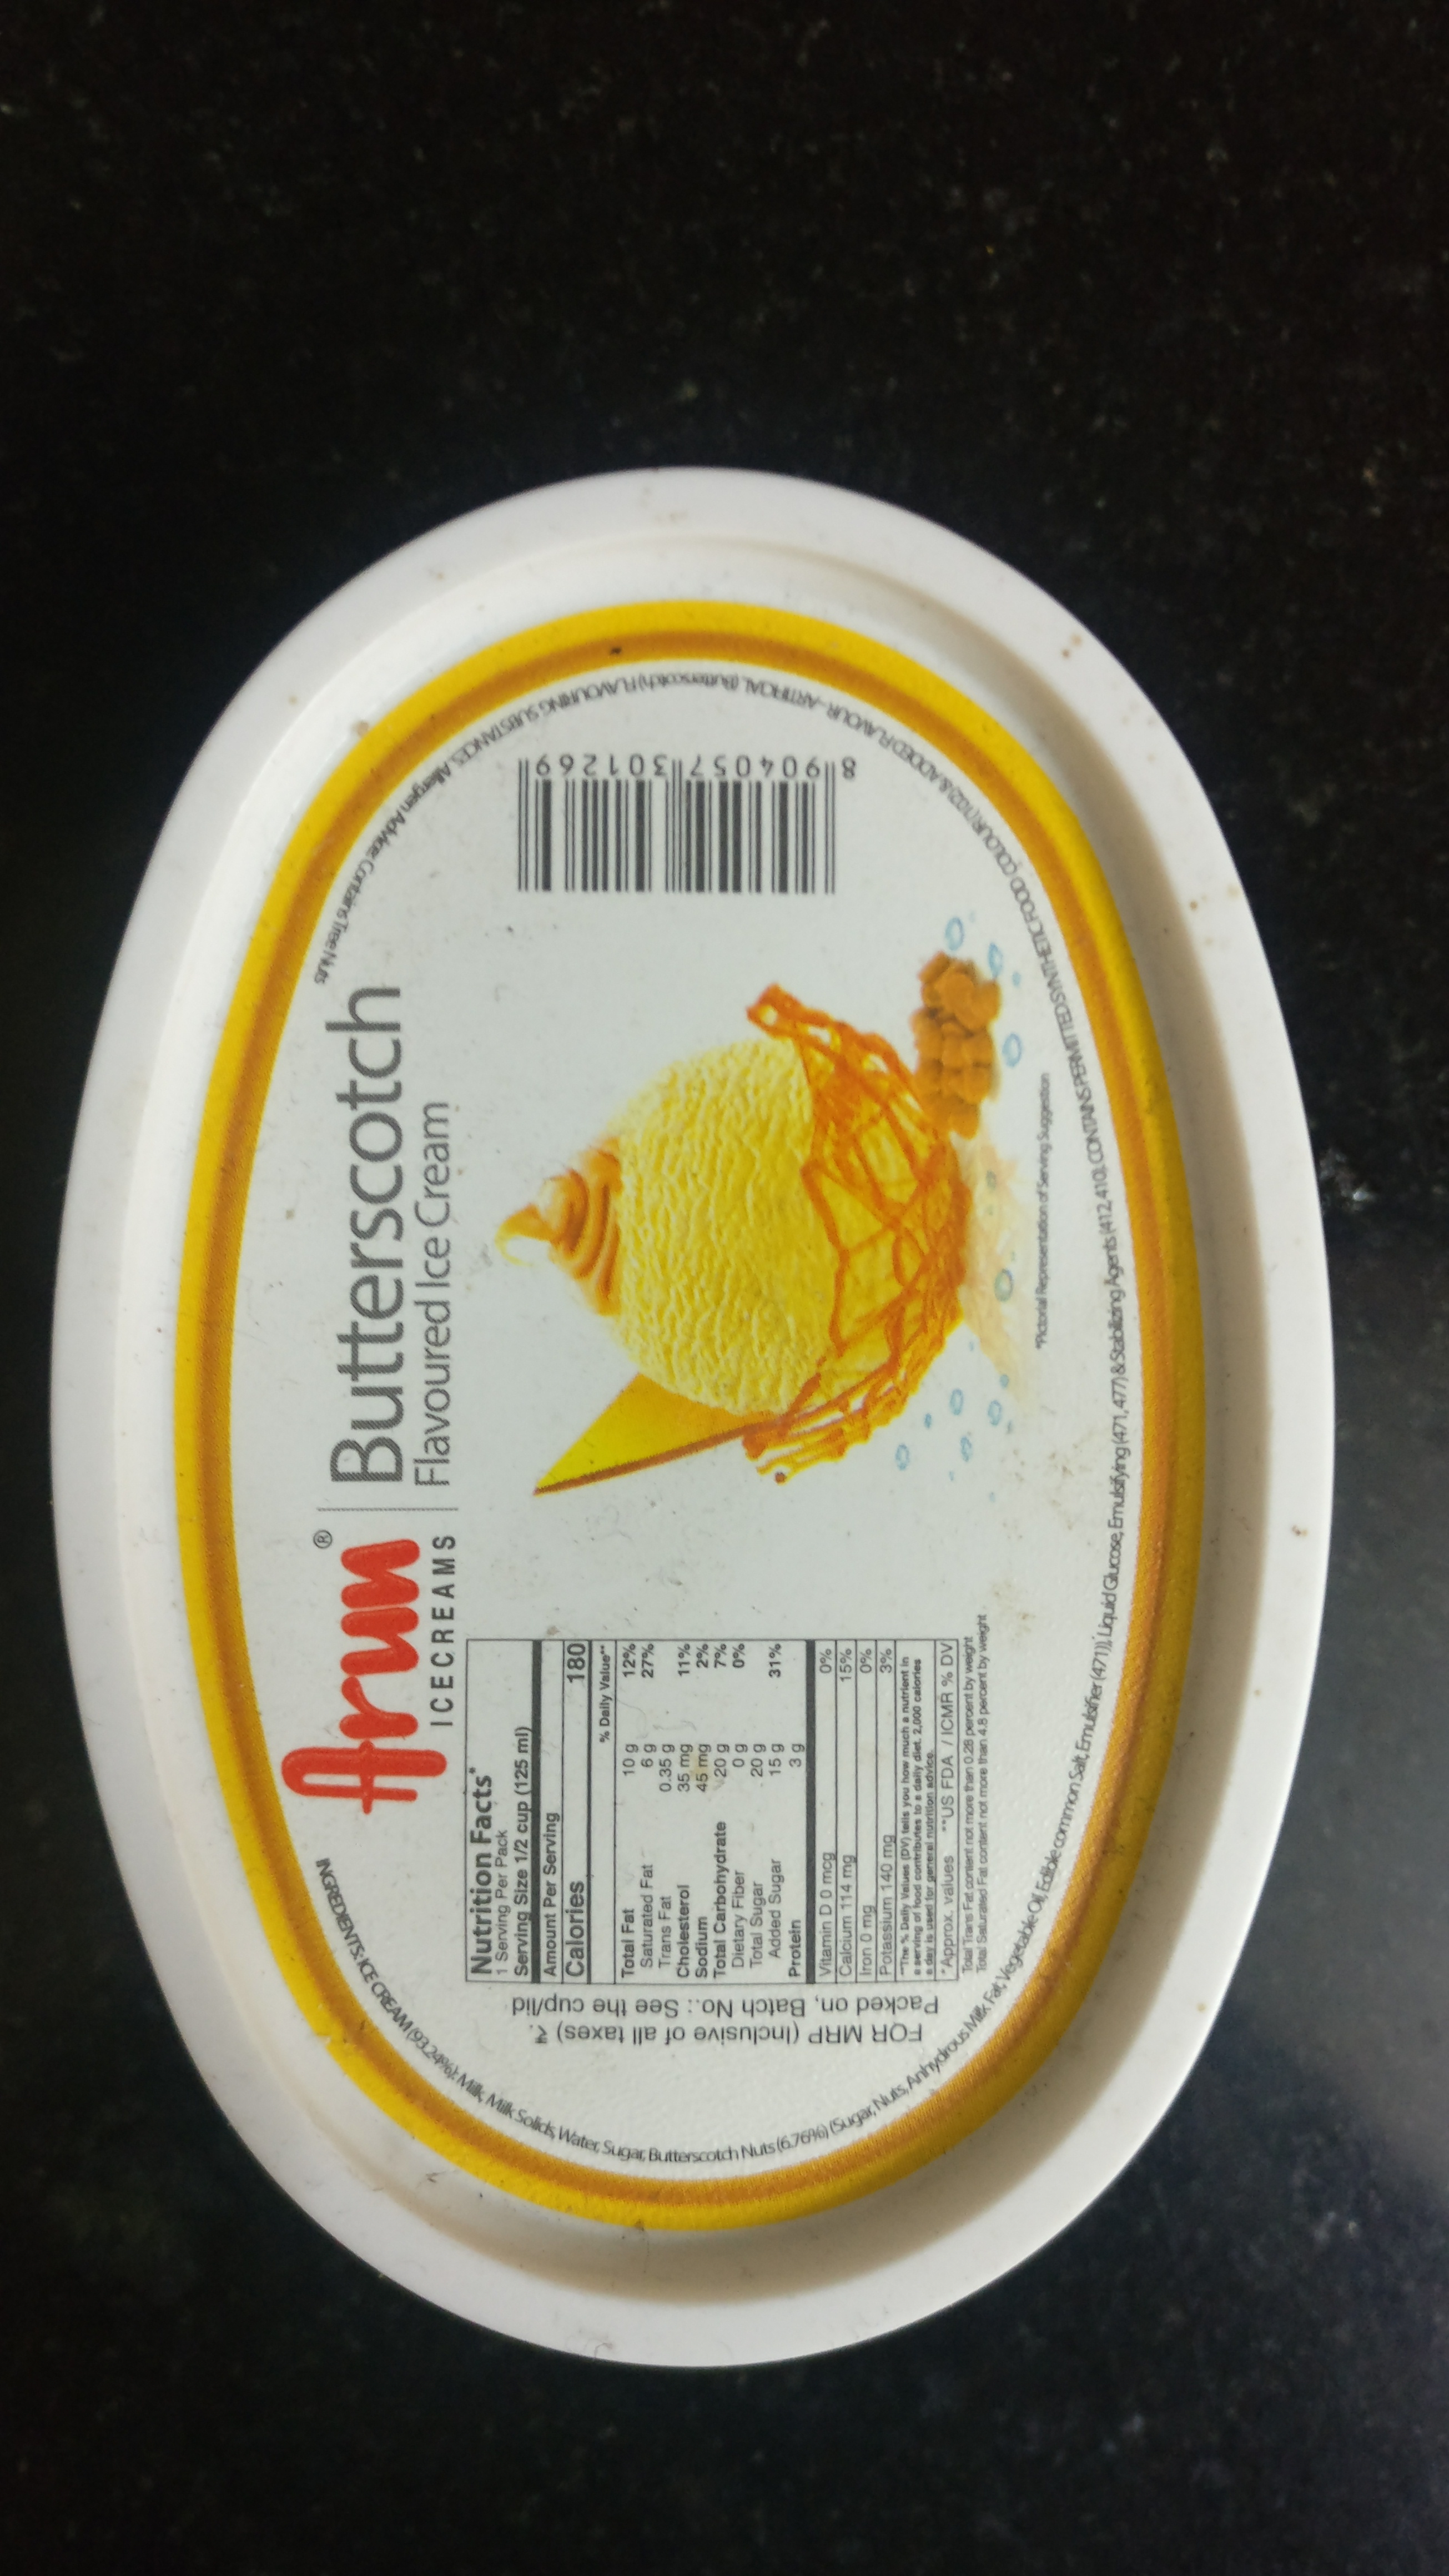barcode: (492, 722, 892, 918)
